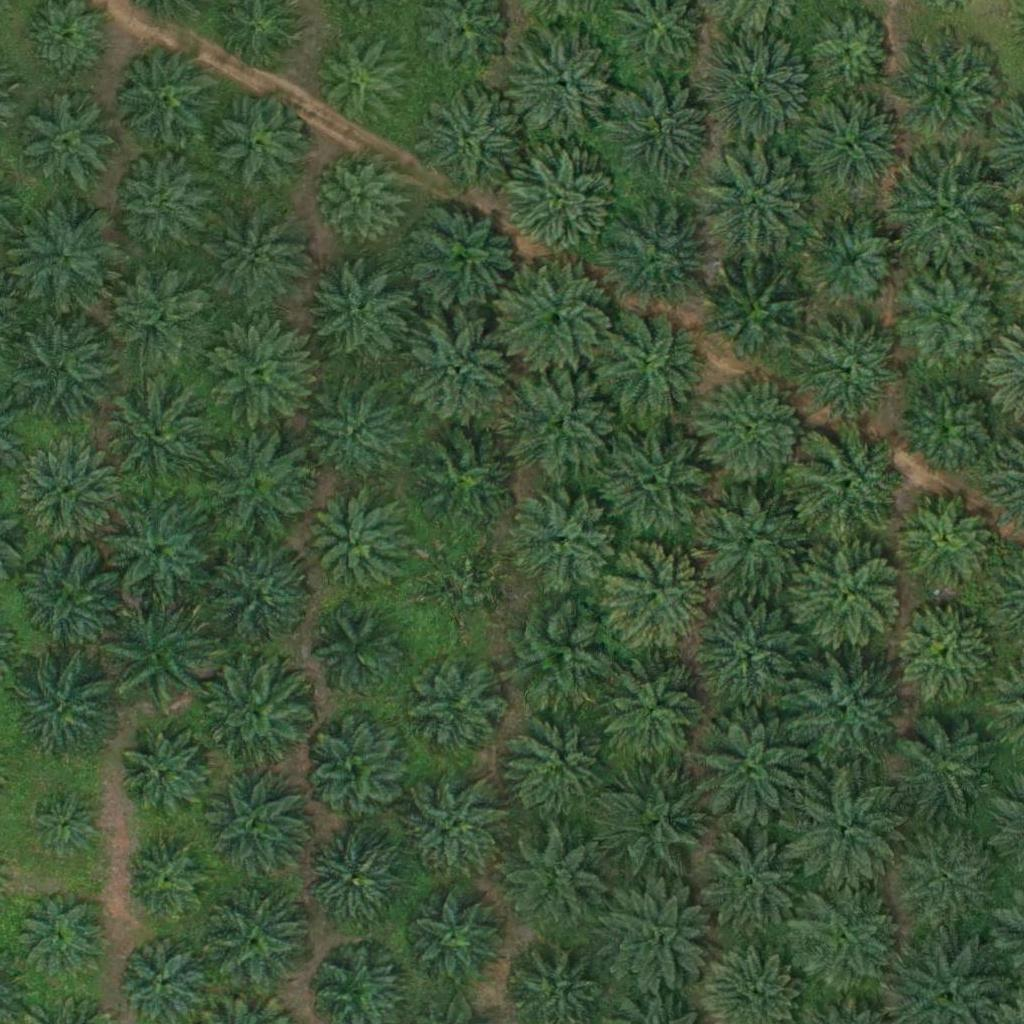Kelapa_Sawit: (704, 256, 817, 370), (412, 81, 525, 195), (9, 542, 122, 656), (589, 308, 702, 422), (696, 374, 809, 488), (794, 427, 907, 541), (791, 538, 904, 652), (892, 710, 1005, 824), (700, 32, 813, 145), (701, 147, 814, 260), (404, 202, 517, 315), (202, 88, 315, 201), (11, 207, 124, 320), (10, 308, 123, 421), (102, 601, 215, 714), (403, 317, 516, 430), (406, 423, 519, 536), (504, 605, 617, 718), (692, 487, 805, 600), (889, 823, 1002, 936), (789, 654, 902, 767), (791, 776, 904, 889), (596, 878, 709, 991), (200, 654, 313, 767), (198, 766, 311, 879), (204, 881, 317, 994), (599, 196, 711, 310), (509, 27, 621, 141), (505, 148, 617, 262), (892, 36, 1004, 149), (891, 158, 1003, 271), (794, 94, 906, 207), (604, 79, 716, 192), (205, 201, 317, 314), (109, 45, 221, 158), (103, 377, 215, 490), (102, 492, 214, 605), (203, 316, 315, 429), (202, 431, 314, 544), (205, 542, 317, 655), (500, 263, 612, 376), (505, 367, 617, 480), (506, 485, 618, 598), (601, 426, 713, 539), (602, 541, 714, 654), (699, 594, 811, 707), (792, 882, 904, 995), (697, 713, 809, 826), (694, 824, 806, 937), (597, 657, 709, 770), (600, 772, 712, 885), (402, 772, 514, 885), (802, 211, 902, 312), (111, 153, 211, 254), (17, 86, 117, 187), (14, 439, 114, 540), (112, 264, 212, 365), (311, 258, 411, 359), (300, 383, 400, 484), (309, 503, 409, 604), (308, 600, 408, 701), (902, 266, 1002, 367), (903, 376, 1003, 477), (504, 716, 604, 817), (501, 829, 601, 930), (411, 655, 511, 756), (404, 889, 504, 990), (306, 719, 406, 820), (301, 824, 401, 925), (12, 654, 112, 755), (310, 27, 410, 127), (805, 316, 905, 416), (901, 491, 1001, 591), (897, 603, 997, 703), (806, 4, 894, 92), (121, 732, 209, 820), (124, 838, 212, 926), (18, 891, 106, 979), (427, 547, 514, 636), (319, 154, 406, 242), (27, 788, 102, 864)
